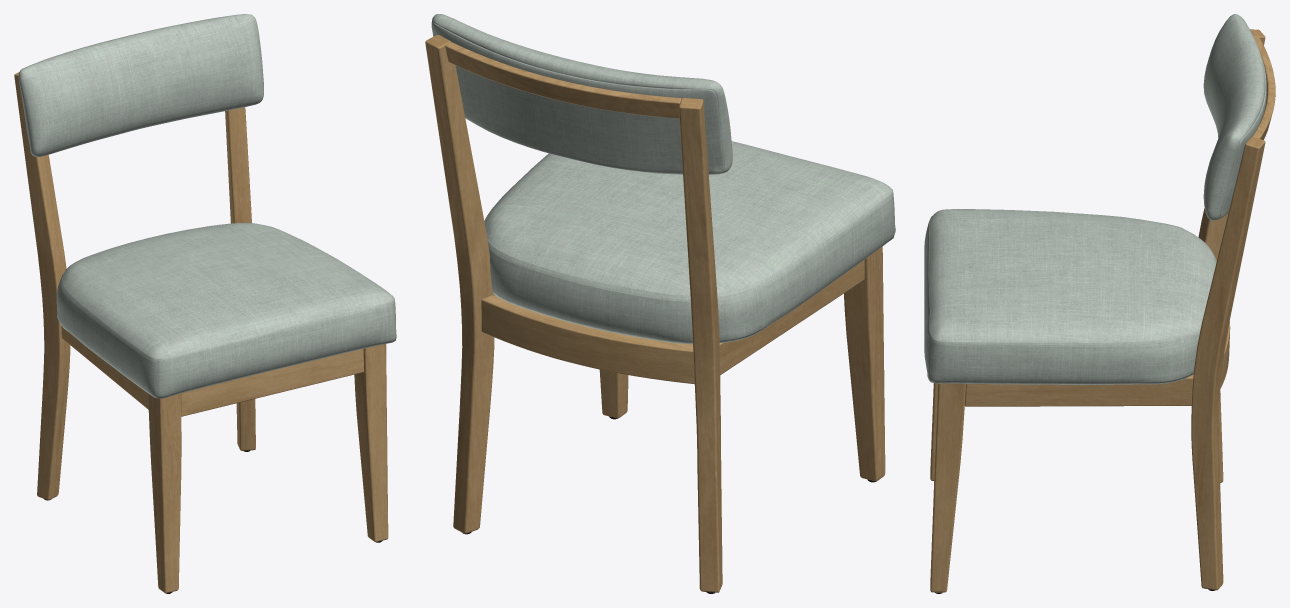
File: B084S12MYC.glb
3 renders of one model, left to right at view 1: azimuth 30°, elevation 25°; view 2: azimuth 150°, elevation 25°; view 3: azimuth 270°, elevation 25°, orthographic. The views are drawn at different scales.
Parts seen in each view (by area): view 1: RootNode; view 2: RootNode; view 3: RootNode.
Boxes of the visible parts, x1,y1,x2,y2 form: RootNode: [14, 14, 396, 593]; RootNode: [425, 14, 895, 593]; RootNode: [924, 14, 1275, 593].
Bounding box in the file's own units: 0.508 × 0.8318 × 0.5715.
1 material, 1 textured.
